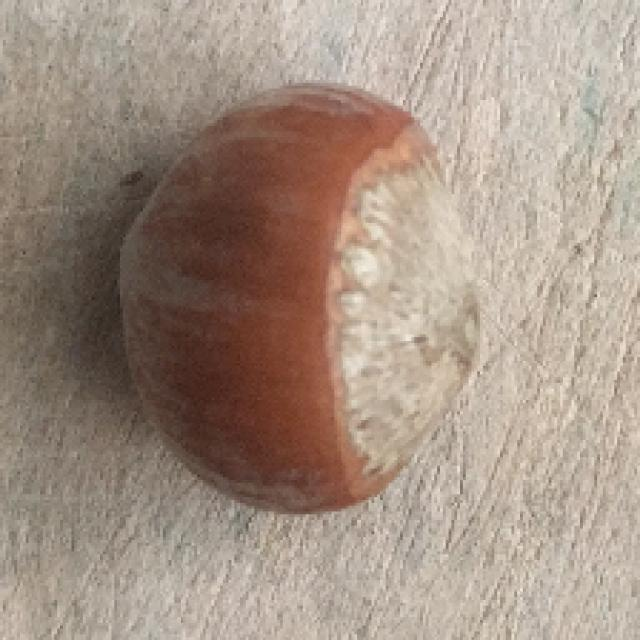qualityHazelnut: (110, 71, 486, 524)
